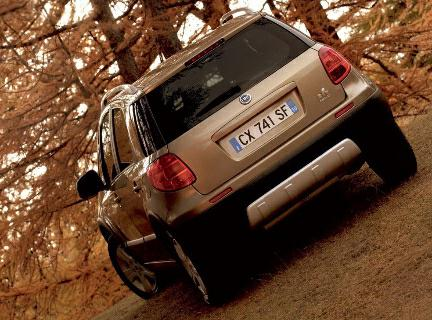菲亚特-Sedici: (71, 15, 419, 315)
